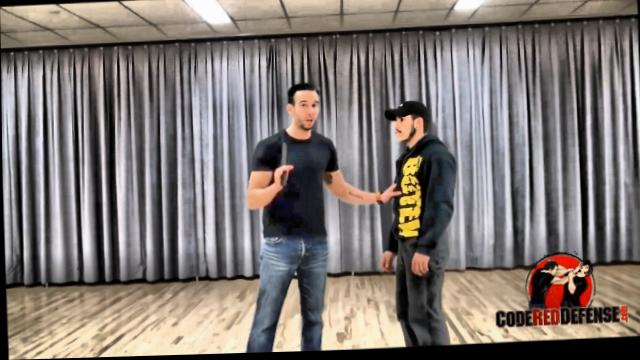knife: (275, 141, 293, 187)
